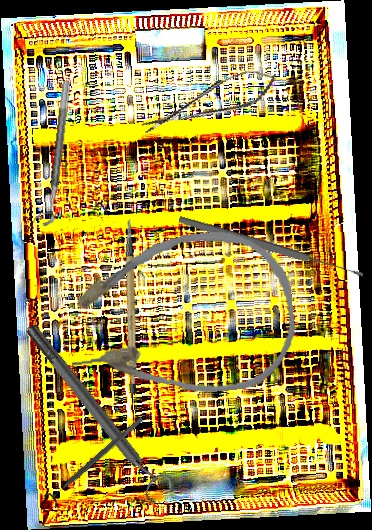Cannula: (59, 224, 301, 407)
Fixation Ring: (17, 314, 179, 509), (42, 411, 149, 510), (32, 79, 72, 227)
Micro Scissor: (135, 62, 283, 142)
Scalpel Handle: (106, 217, 160, 395)
Surgical Spoon: (177, 214, 365, 281)
